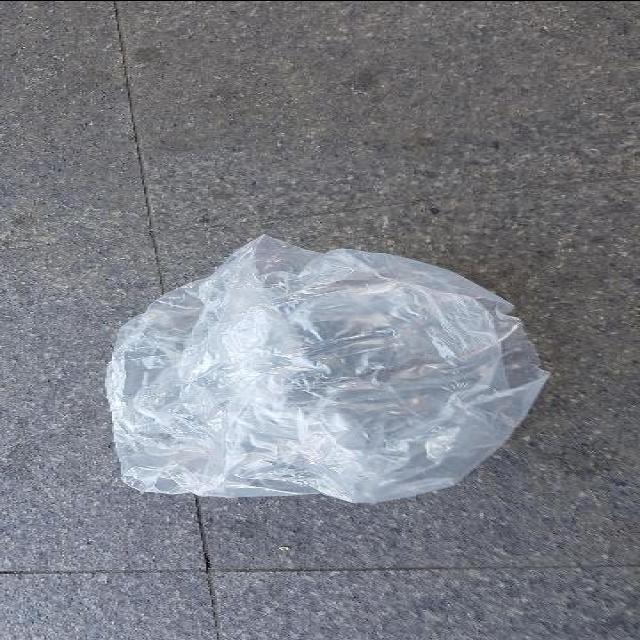plastic bag: (101, 230, 558, 508)
